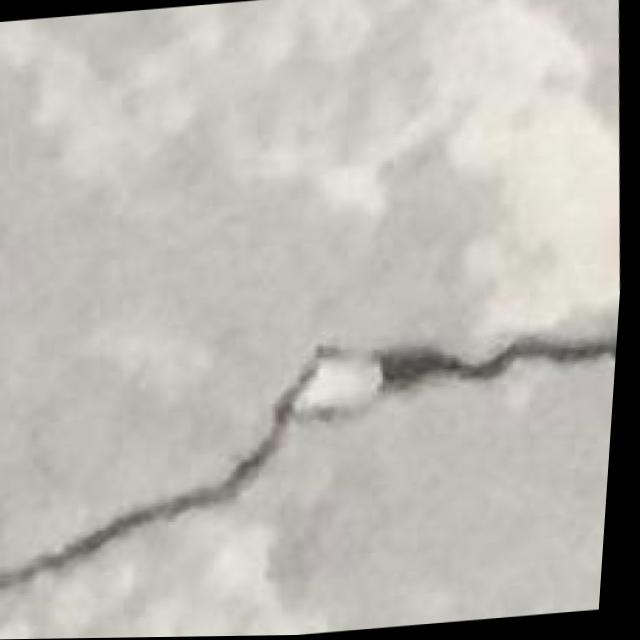Crack: (0, 281, 625, 631)
